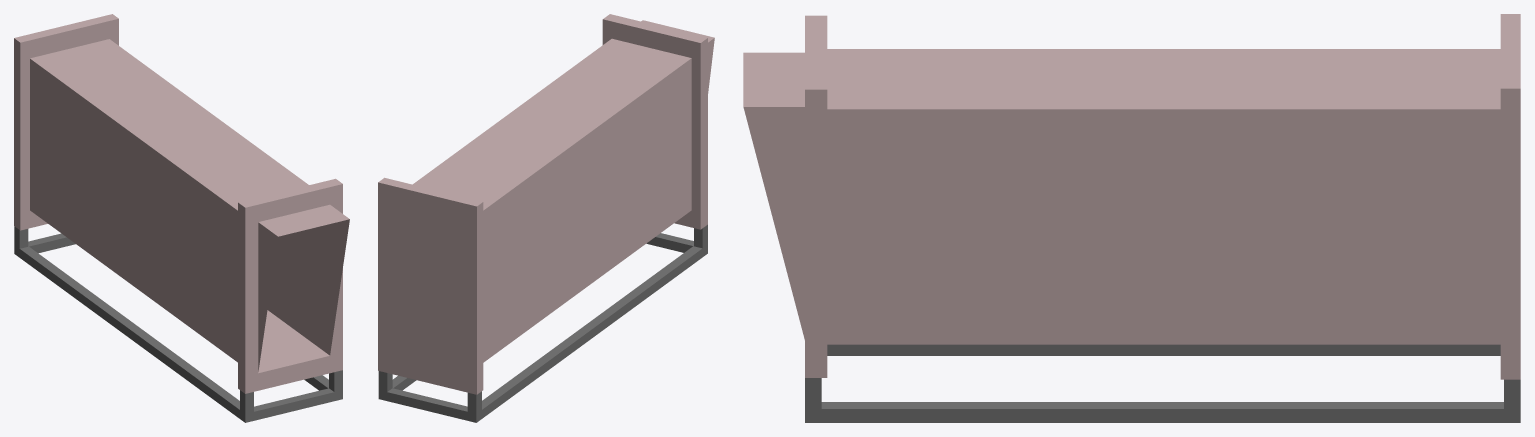
File: Вентиляция горизонтальная.fbx
3 renders of one model, left to right at view 1: azimuth 30°, elevation 25°; view 2: azimuth 150°, elevation 25°; view 3: azimuth 270°, elevation 25°, orthographic. The views are drawn at different scales.
Parts seen in each view (by area): view 1: Вентилляция гор; view 2: Вентилляция гор; view 3: Вентилляция гор.
Boxes of the visible parts, x1,y1,x2,y2 form: Вентилляция гор: (14, 14, 349, 422); Вентилляция гор: (378, 14, 714, 422); Вентилляция гор: (743, 14, 1520, 422).
Size of the model in its own units: 1.36 by 2.85 by 5.99.
